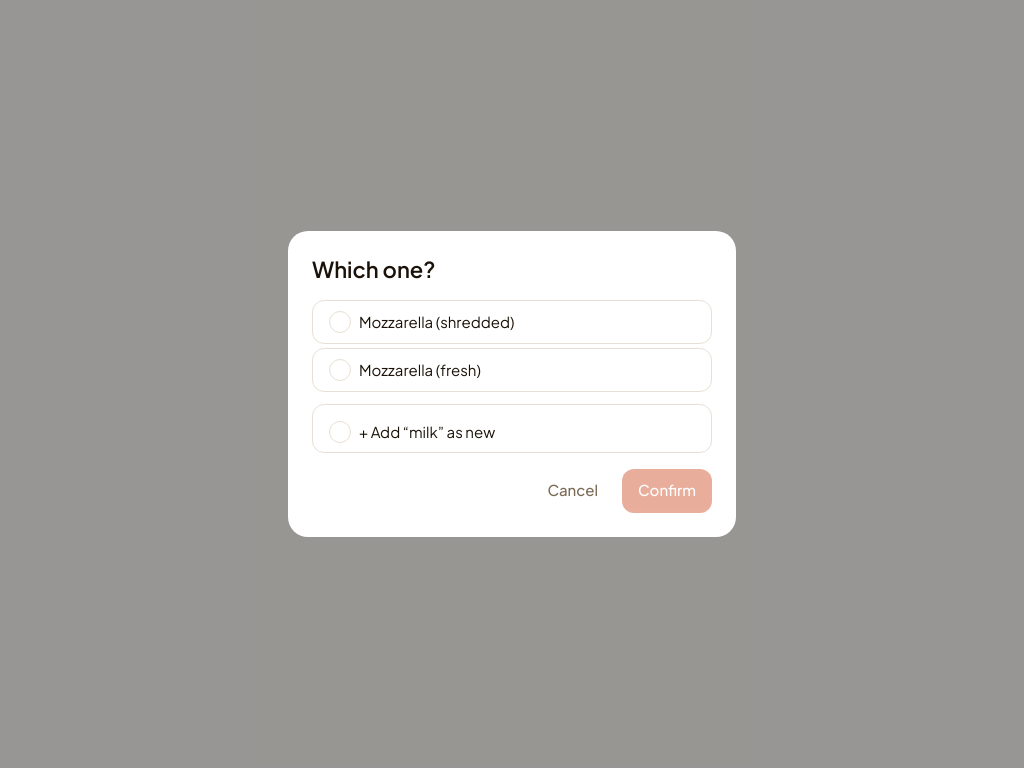
Test: <DisambiguationSheet> › Confirm is disabled until a radio is selected
expect the button "Confirm" is disabled: met, box [622,468,712,512]
Step 1. Click the radio button labelled "Mozzarella (fresh)" → [420, 369], box [312,348,712,392]
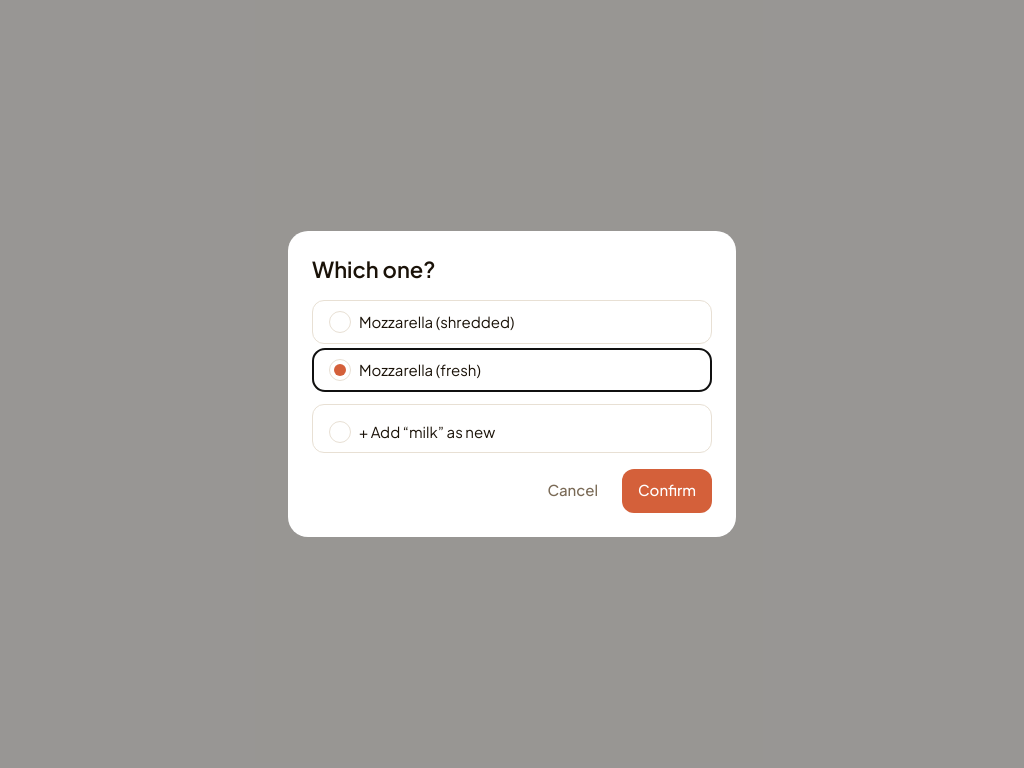
expect the button "Confirm" is enabled: met, box [622,468,712,512]
